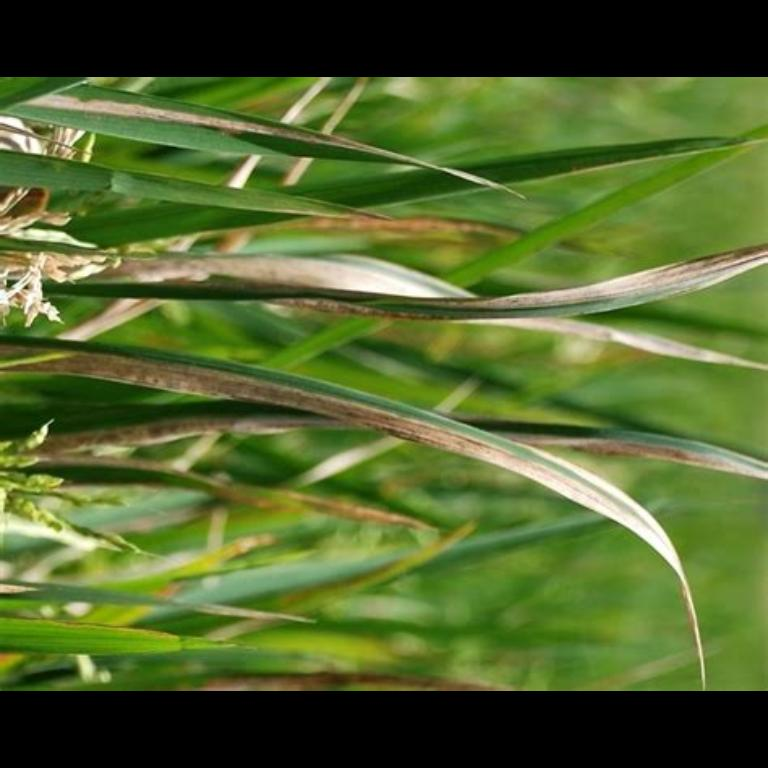blight: (65, 344, 432, 448), (116, 248, 406, 308)
